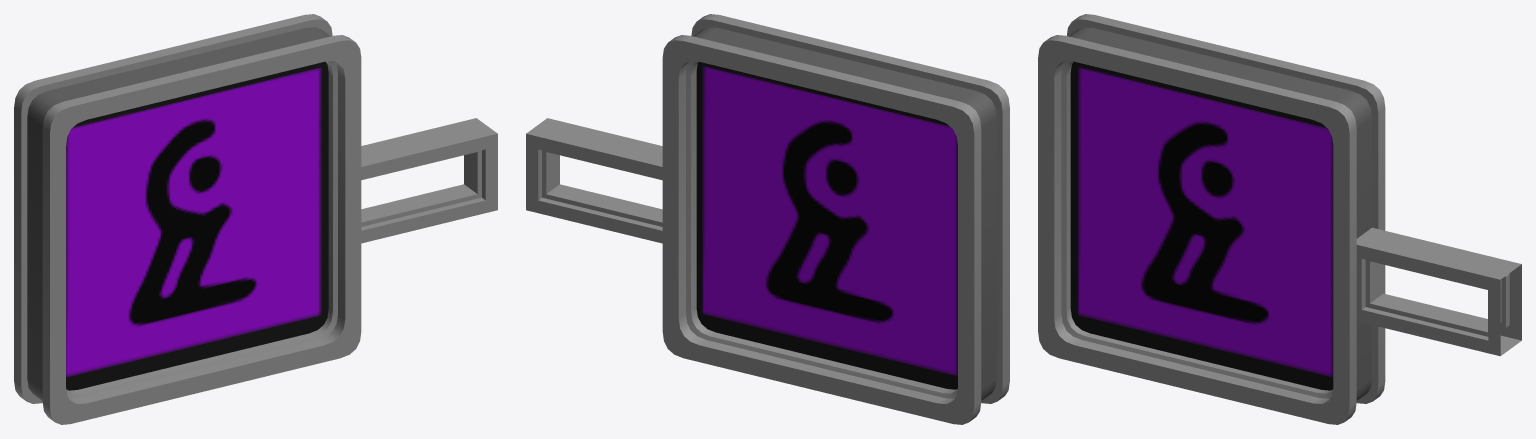
3 renders of one model, left to right at view 1: azimuth 30°, elevation 25°; view 2: azimuth 150°, elevation 25°; view 3: azimuth 330°, elevation 25°, orthographic.
Parts seen in each view (by area): view 1: MS_1M_5; view 2: MS_1M_5; view 3: MS_1M_5.
Part boxes in pixels (bbox=[...]): MS_1M_5: bbox=[14, 14, 497, 424]; MS_1M_5: bbox=[526, 14, 1009, 424]; MS_1M_5: bbox=[1038, 14, 1521, 424].
Bounding box in the file's own units: 146 × 97.51 × 19.93.
